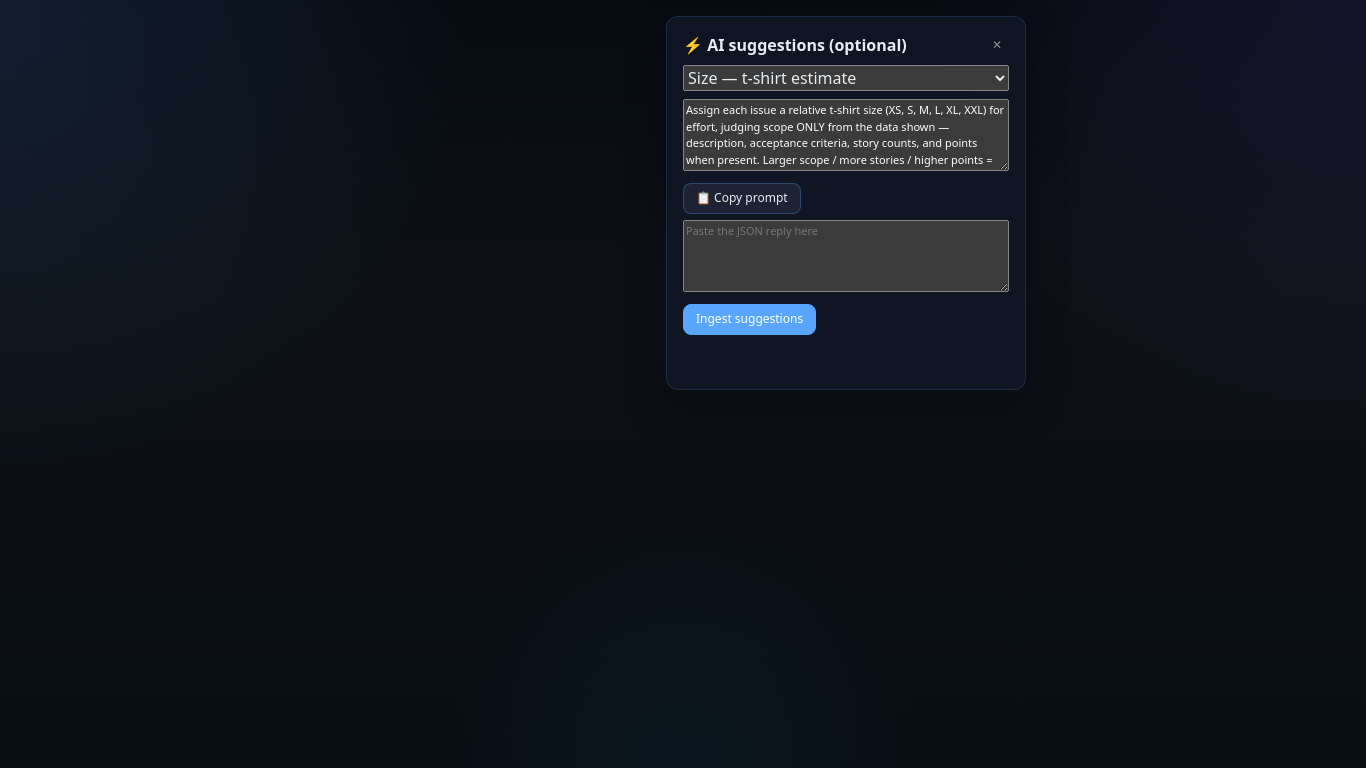
Test: AiSuggestionPanel › lists the real sprints in the master prompt so the AI never invents sprint names
The width and height of the screenshot is (1366, 768).
Select "★ Master plan — all phases, applied at once" in the dropdown at (846,78), box [683,65,1009,91]
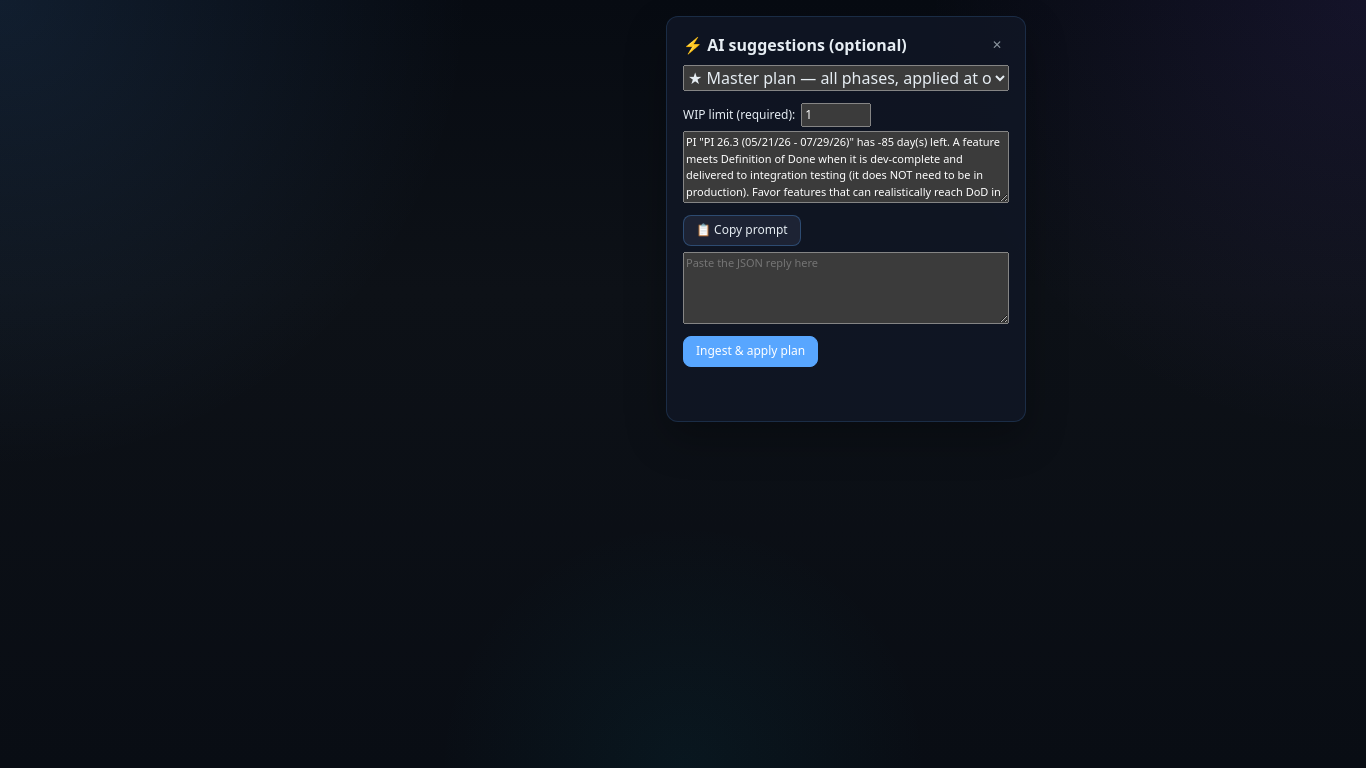
Result: the 1st text box is shown at [683,131,1009,203]
